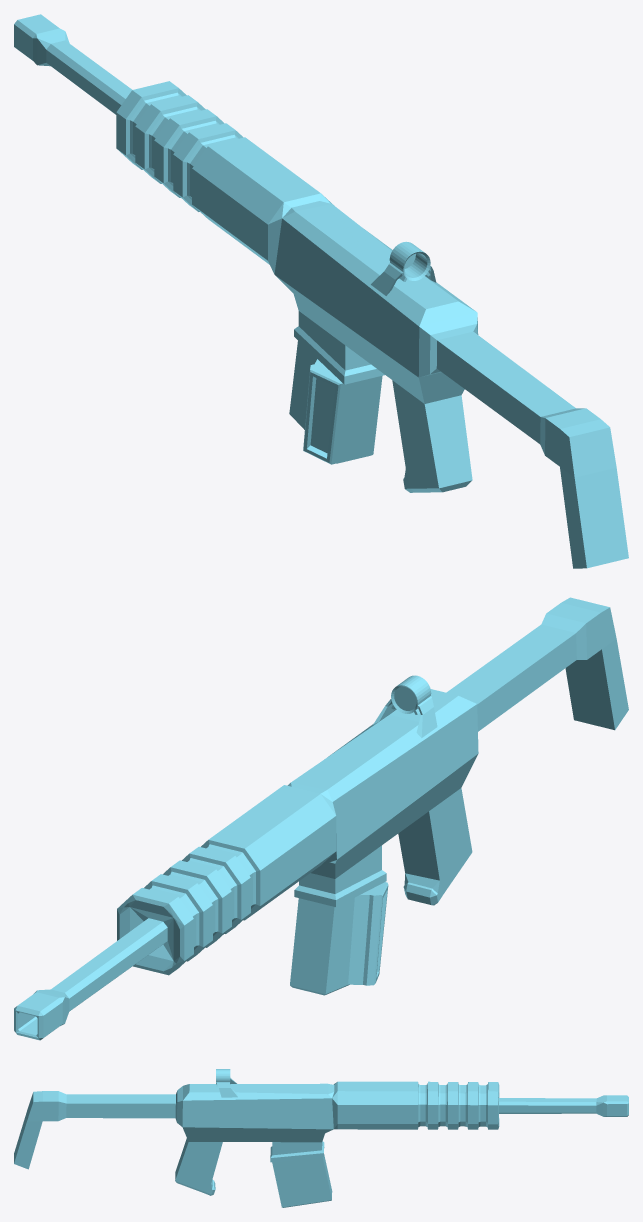
The model's file is assault_rifle_0.glb.
3 renders of one model, top to bottom at view 1: azimuth 30°, elevation 25°; view 2: azimuth 150°, elevation 25°; view 3: azimuth 270°, elevation 25°, orthographic. The views are drawn at different scales.
Visible parts, largest first — view 1: gun, gun.001; view 2: gun; view 3: gun.
Boxes of the visible parts, left/top/right/bottom form: gun: left=14, top=14, right=628, bottom=568; gun.001: left=310, top=378, right=335, bottom=453; gun: left=14, top=597, right=628, bottom=1040; gun: left=14, top=1069, right=628, bottom=1207.
Bounding box in the file's own units: 0.7773 × 2.61 × 10.86.
1 material, 1 textured.
